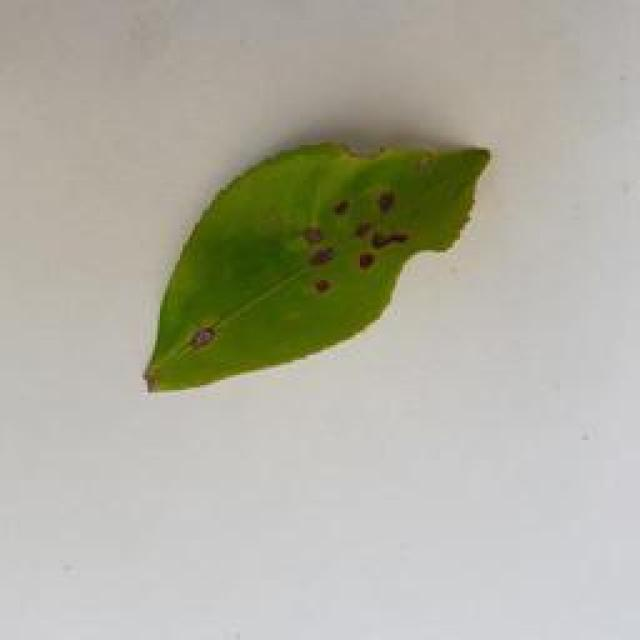Helopeltis: (125, 136, 505, 397)
